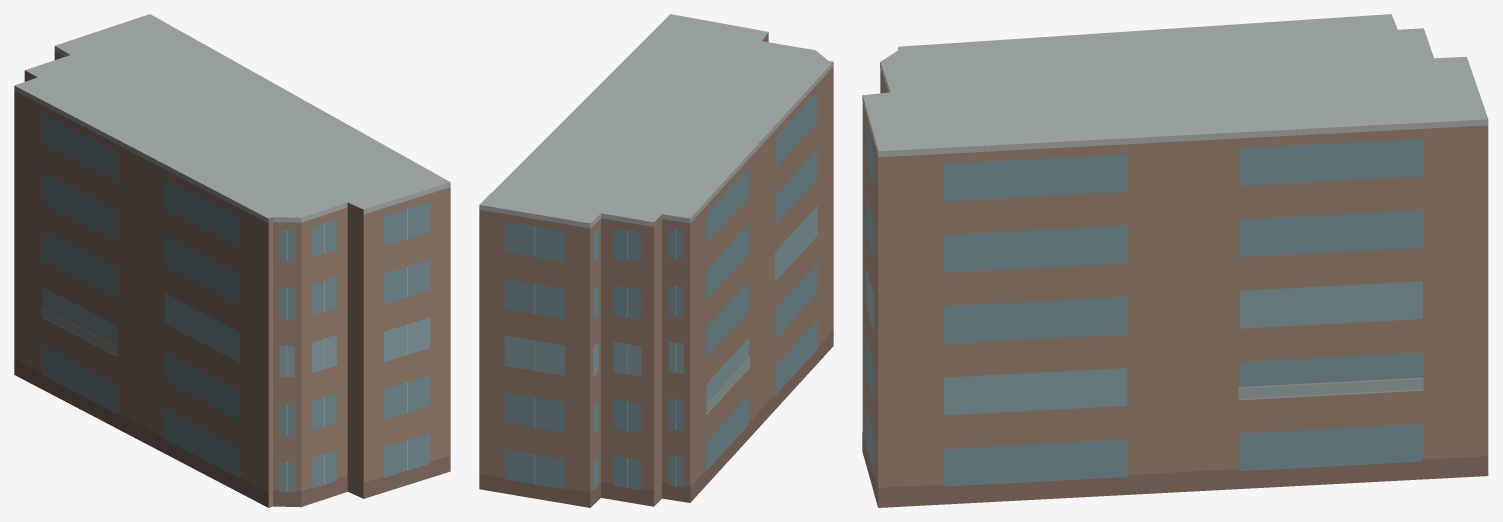
Rendered from survey-upis-32964174.glb.
The picture shows the model from 3 angles, left to right: view 1: azimuth 30°, elevation 25°; view 2: azimuth 150°, elevation 25°; view 3: azimuth 270°, elevation 25°; orthographic projection. The views are drawn at different scales.
Visible parts, largest first — view 1: survey-upis-32964174.tmp; view 2: survey-upis-32964174.tmp; view 3: survey-upis-32964174.tmp.
Part boxes in pixels (x1,y1,x2,y2): survey-upis-32964174.tmp: [14, 14, 450, 507]; survey-upis-32964174.tmp: [479, 14, 833, 507]; survey-upis-32964174.tmp: [862, 14, 1488, 507].
Size of the model in its own units: 11.94 by 14.45 by 23.
